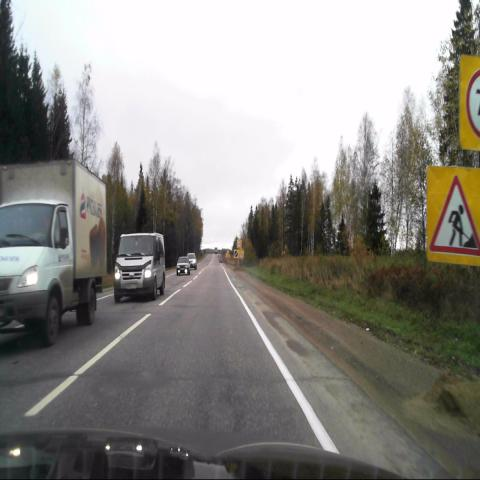1_25: (425, 167, 480, 265)
